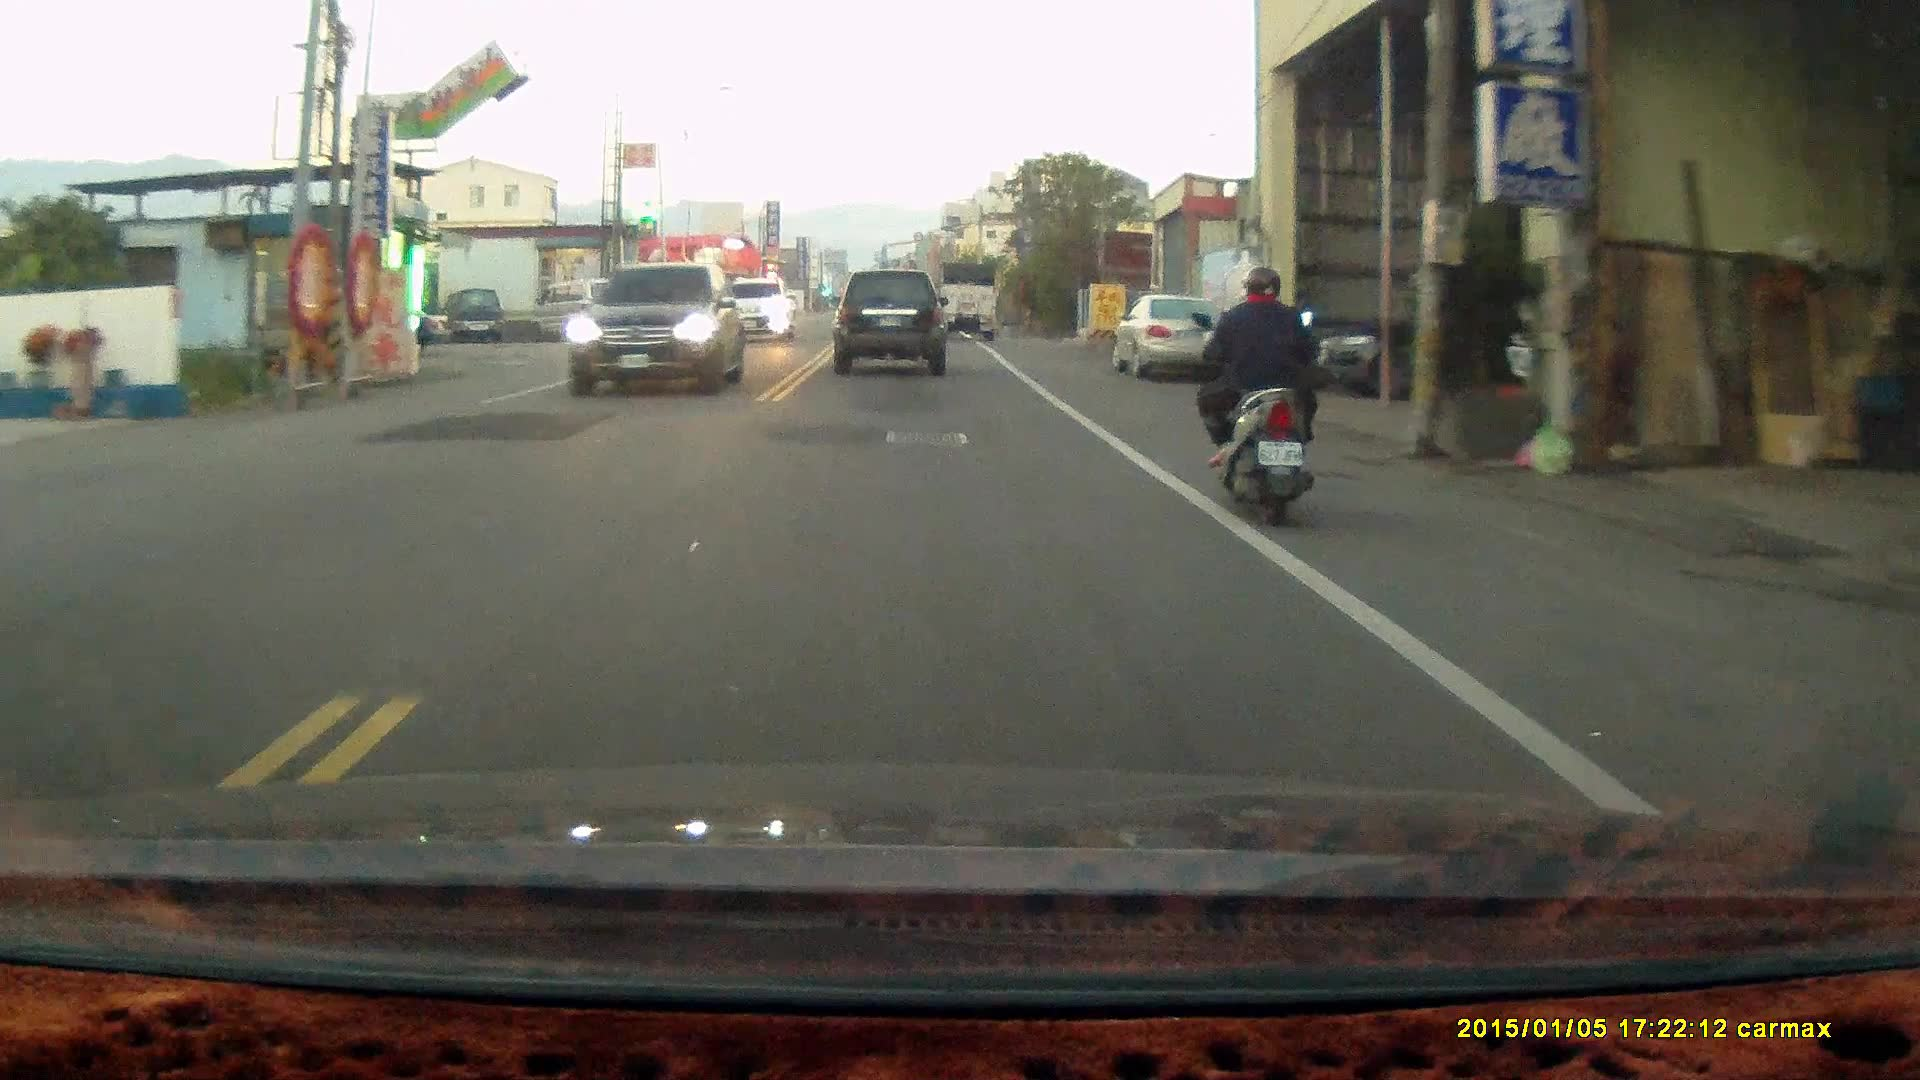rider: (1190, 264, 1321, 529)
vehicle: (561, 266, 751, 399), (1310, 297, 1499, 404), (833, 270, 950, 378), (1115, 292, 1230, 381), (540, 279, 632, 347), (929, 264, 1000, 344), (721, 277, 798, 348), (447, 288, 503, 344)
